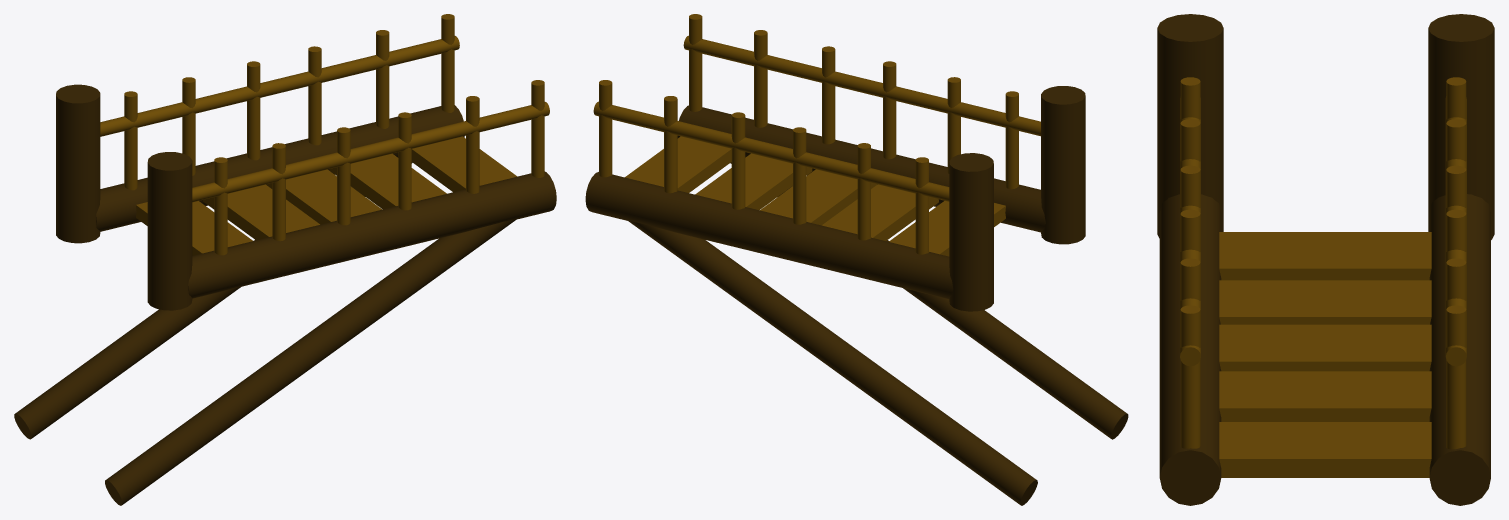
The model's file is Bridge.fbx.
The picture shows the model from 3 angles, left to right: view 1: azimuth 30°, elevation 25°; view 2: azimuth 150°, elevation 25°; view 3: azimuth 270°, elevation 25°; orthographic projection. The views are drawn at different scales.
Visible parts, largest first — view 1: polySurface26; view 2: polySurface26; view 3: polySurface26.
Boxes of the visible parts, <box> form: polySurface26: <box>14,14,556,505</box>; polySurface26: <box>585,14,1128,505</box>; polySurface26: <box>1157,14,1494,505</box>.
Bounding box in the file's own units: 24.19 × 17.49 × 10.95.
